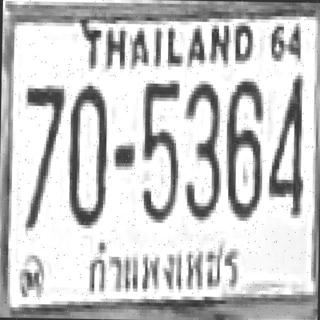N00: (66, 82, 107, 225)
N03: (182, 78, 220, 218)
N04: (266, 72, 302, 215)
N05: (140, 76, 178, 219)
N06: (223, 78, 261, 218)
N07: (23, 81, 64, 228)
P16: (79, 234, 257, 306)
